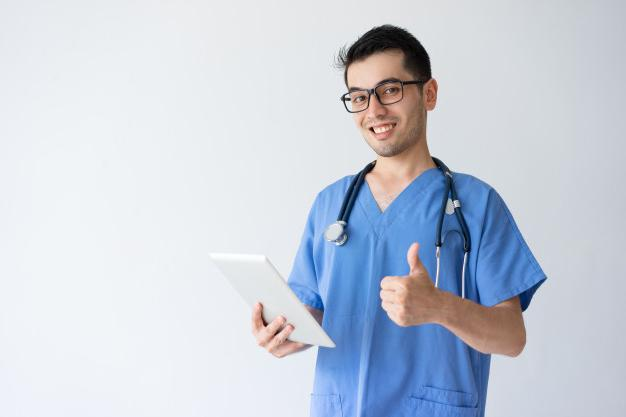thumbsup: (379, 242, 423, 327)
